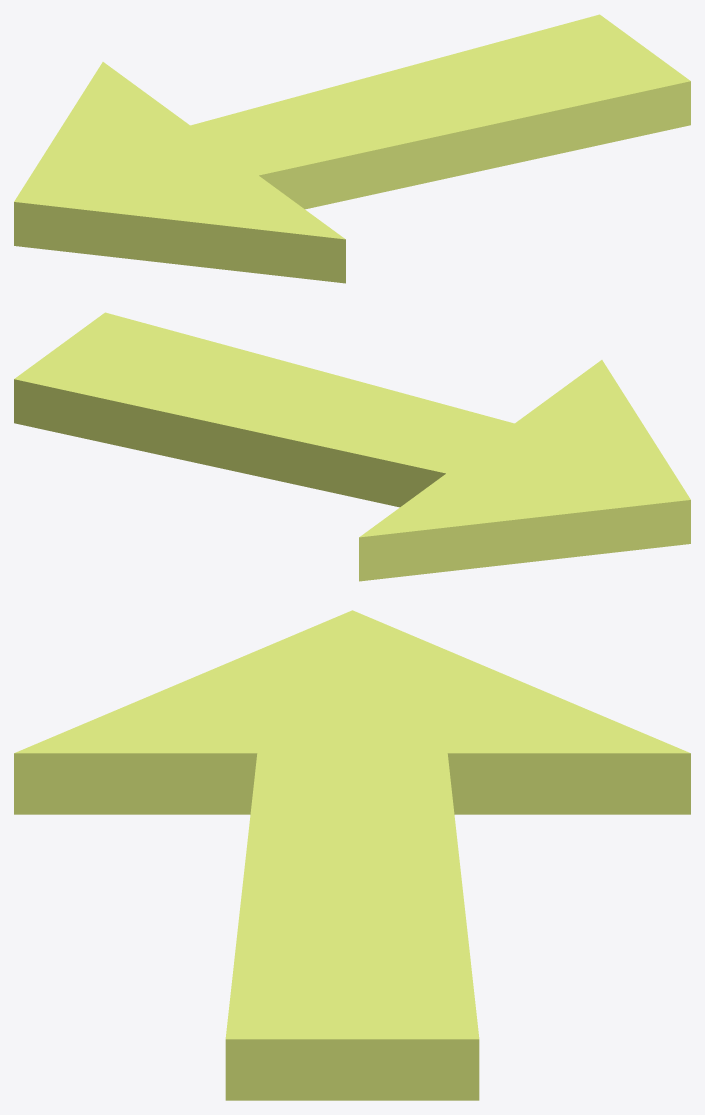
File: Pointer Arrow.fbx
The picture shows the model from 3 angles, top to bottom: view 1: azimuth 30°, elevation 25°; view 2: azimuth 150°, elevation 25°; view 3: azimuth 270°, elevation 25°; orthographic projection. The views are drawn at different scales.
Parts seen in each view (by area): view 1: Plane; view 2: Plane; view 3: Plane.
Boxes of the visible parts, x1,y1,x2,y2 form: Plane: (14,14,690,283); Plane: (14,312,690,581); Plane: (14,610,690,1100).
Bounding box in the file's own units: 300 × 20 × 200.
